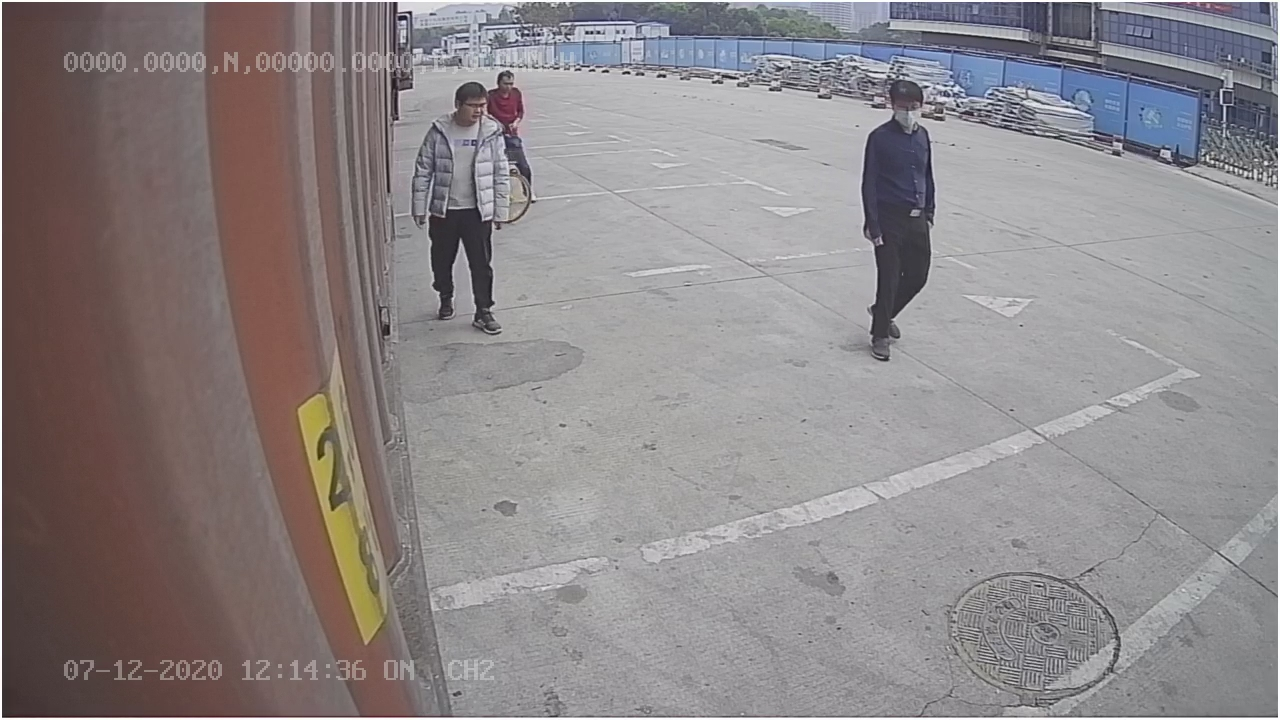person: (857, 79, 947, 359)
